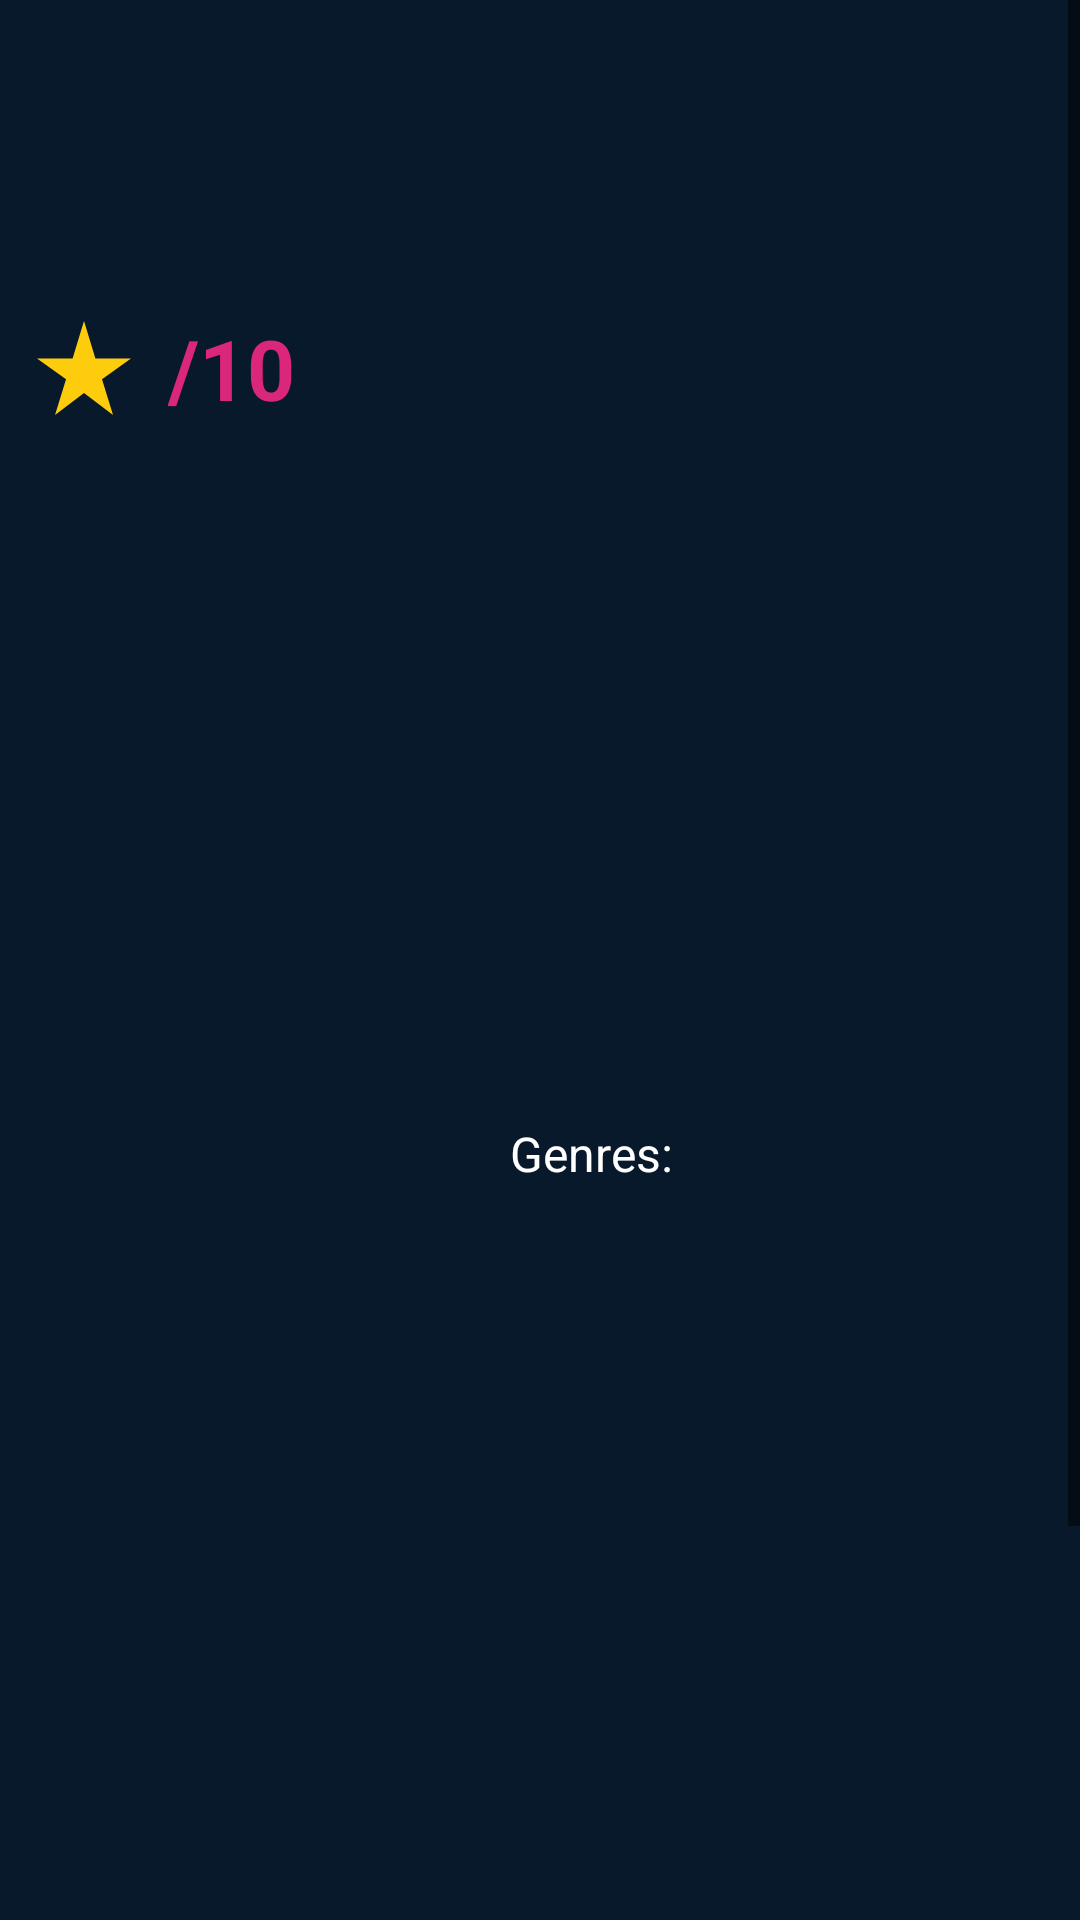

Named icons in this screenshot (1080 × 1920) and their centers, (x=x, y=y):
star: (x=84, y=368)
